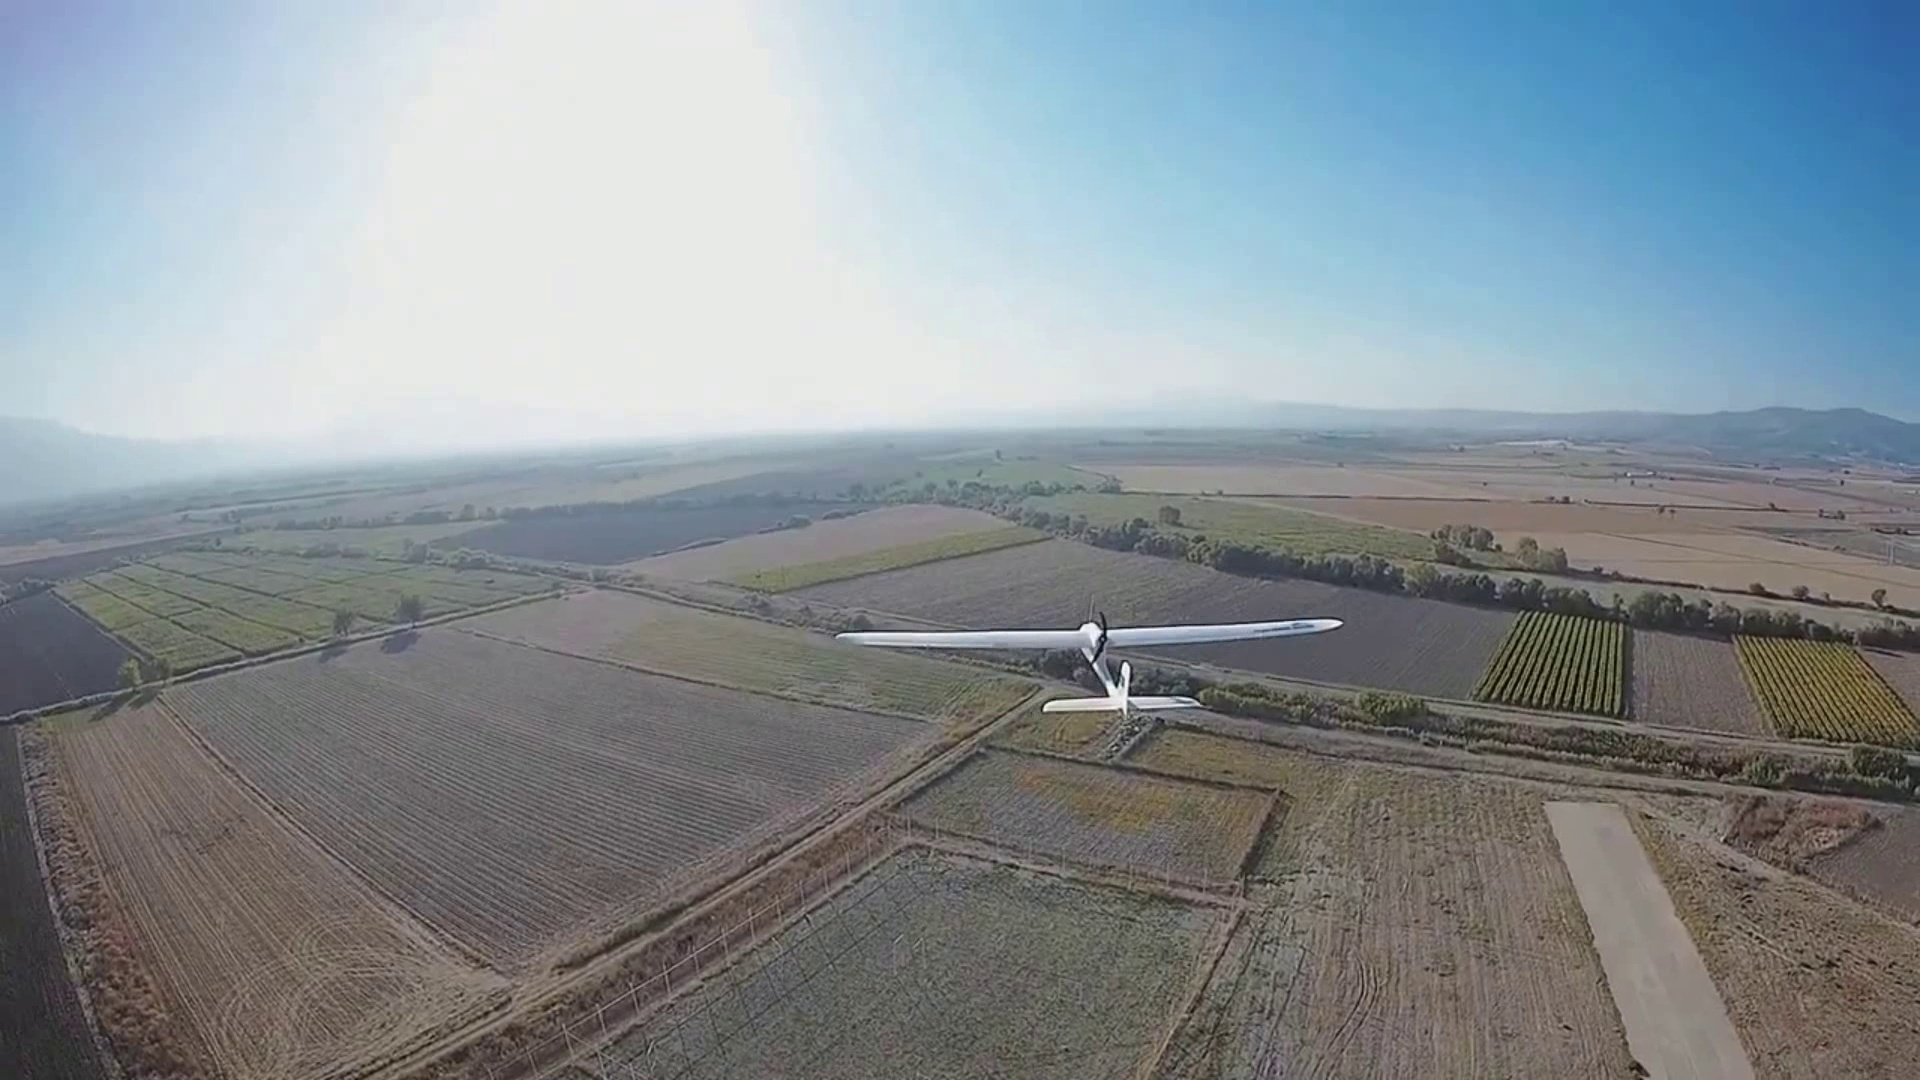airplane: (834, 604, 1346, 716)
